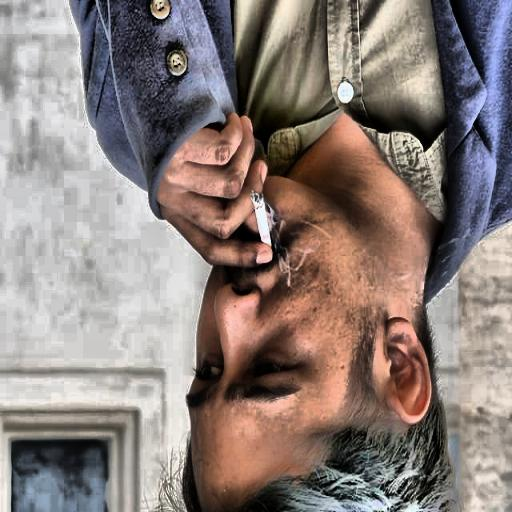Merokok: (251, 193, 272, 246)
Rokok: (158, 116, 438, 512)
